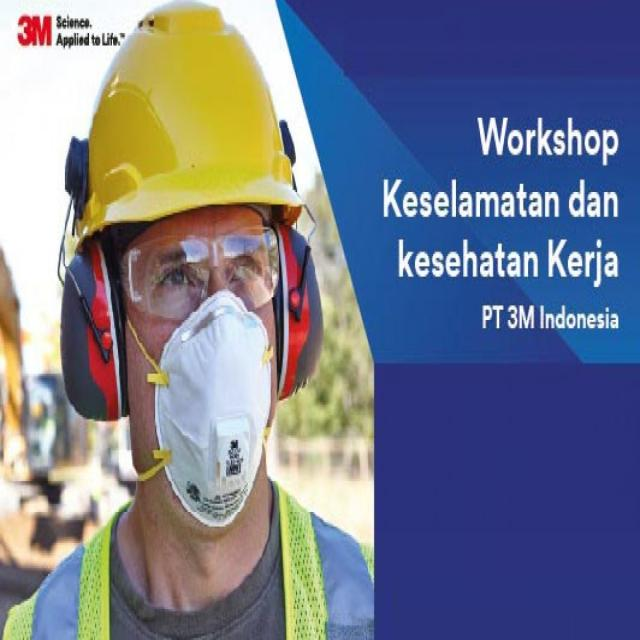glasses: (130, 225, 282, 320)
